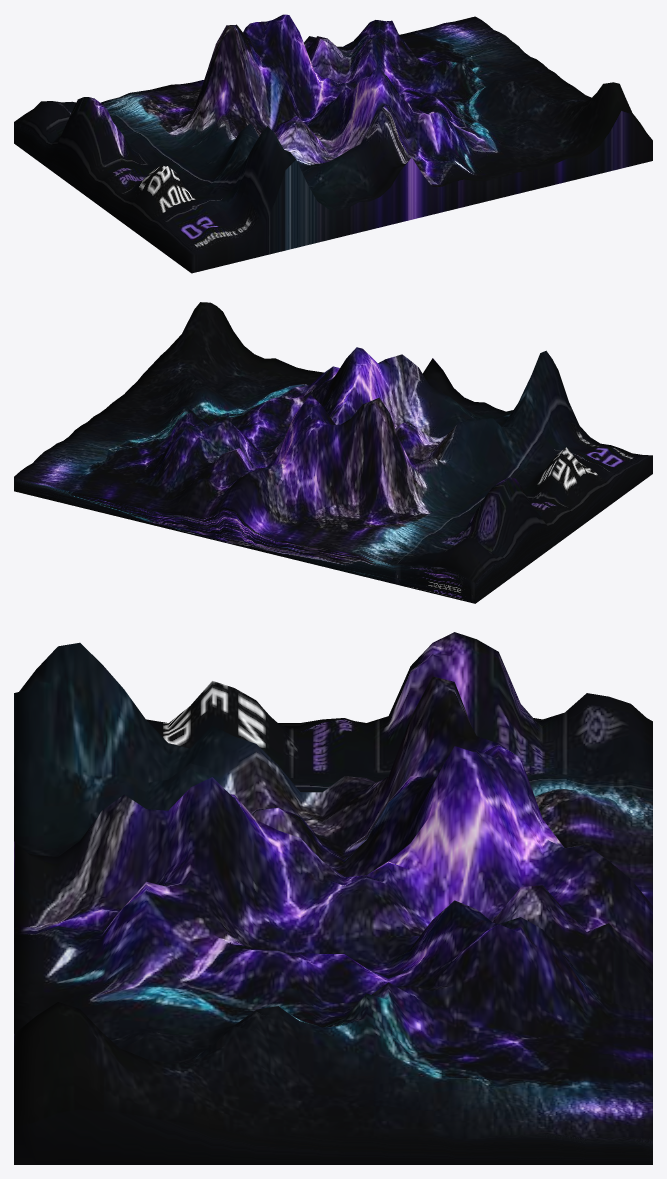
File: ORE_05_Void_Ore_Vein.glb
3 renders of one model, top to bottom at view 1: azimuth 30°, elevation 25°; view 2: azimuth 150°, elevation 25°; view 3: azimuth 270°, elevation 25°, orthographic. The views are drawn at different scales.
Visible parts, largest first — view 1: ORE_05_Void_Ore_Vein; view 2: ORE_05_Void_Ore_Vein; view 3: ORE_05_Void_Ore_Vein.
Boxes of the visible parts, bbox=[...] form: ORE_05_Void_Ore_Vein: bbox=[14, 14, 652, 273]; ORE_05_Void_Ore_Vein: bbox=[14, 302, 652, 603]; ORE_05_Void_Ore_Vein: bbox=[14, 632, 652, 1164].
Size of the model in its own units: 2 by 0.51 by 1.33.
1 material, 1 textured.
